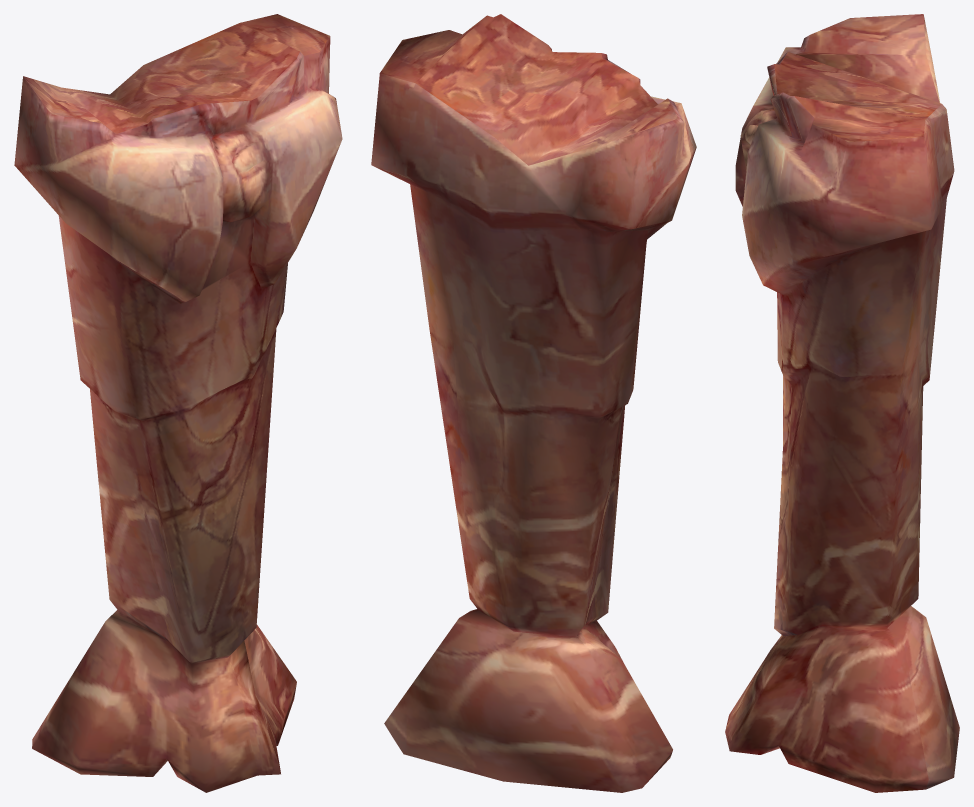
File: kor_tomb_item_statue_01_broken.glb
3 renders of one model, left to right at view 1: azimuth 30°, elevation 25°; view 2: azimuth 150°, elevation 25°; view 3: azimuth 270°, elevation 25°, orthographic.
Visible parts, largest first — view 1: kor_tomb_item_statue_01_broken; view 2: kor_tomb_item_statue_01_broken; view 3: kor_tomb_item_statue_01_broken.
Boxes of the visible parts, <box> form: kor_tomb_item_statue_01_broken: <box>14,14,342,792</box>; kor_tomb_item_statue_01_broken: <box>371,14,696,792</box>; kor_tomb_item_statue_01_broken: <box>725,14,959,792</box>.
Bounding box in the file's own units: 0.4719 × 1.1 × 0.3427.
Materials: 1 (1 with a texture image).
